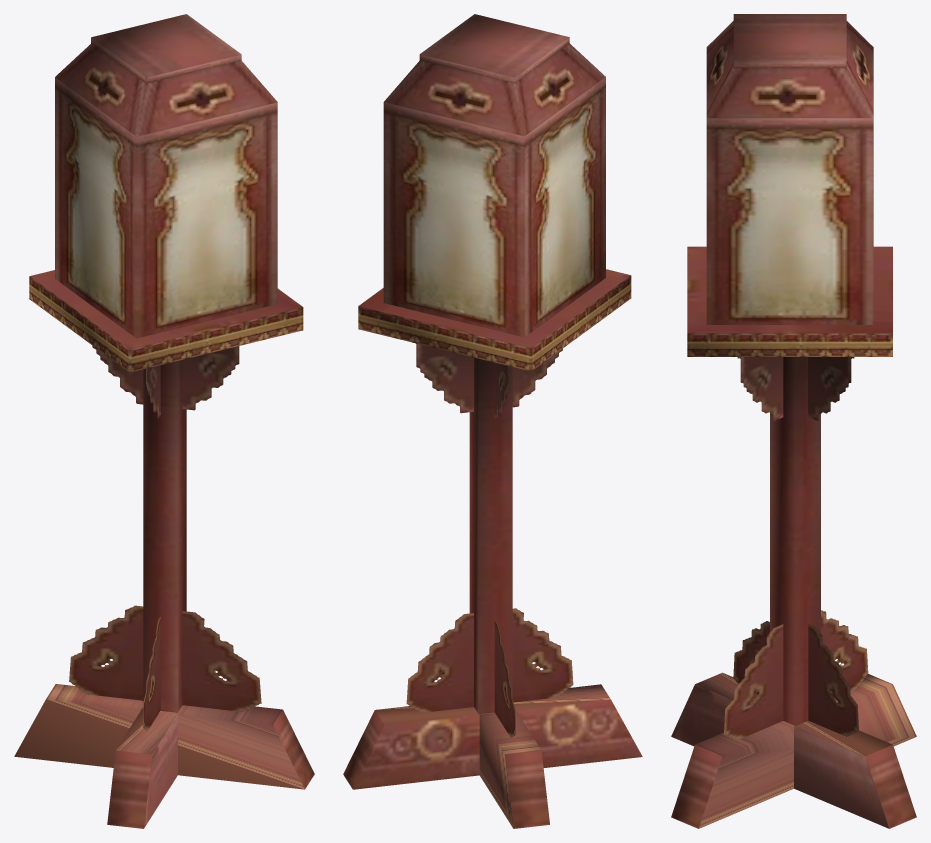
The model's file is cj_lamp01.glb.
The picture shows the model from 3 angles, left to right: view 1: azimuth 30°, elevation 25°; view 2: azimuth 150°, elevation 25°; view 3: azimuth 270°, elevation 25°; orthographic projection. The views are drawn at different scales.
Parts seen in each view (by area): view 1: CJ_lamp02_1, CJ_lamp02, CJ_lamp02_al; view 2: CJ_lamp02_1, CJ_lamp02, CJ_lamp02_al; view 3: CJ_lamp02_1, CJ_lamp02, CJ_lamp02_al.
Boxes of the visible parts, <box> form: CJ_lamp02_1: <box>55,14,277,338</box>; CJ_lamp02: <box>14,270,314,828</box>; CJ_lamp02_al: <box>69,345,261,730</box>; CJ_lamp02_1: <box>383,14,605,337</box>; CJ_lamp02: <box>343,269,642,828</box>; CJ_lamp02_al: <box>406,342,573,737</box>; CJ_lamp02_1: <box>706,14,873,324</box>; CJ_lamp02: <box>671,246,916,828</box>; CJ_lamp02_al: <box>724,357,868,739</box>.
Size of the model in its own units: 0.6004 by 1.99 by 0.6004.
3 materials, 3 textured.
